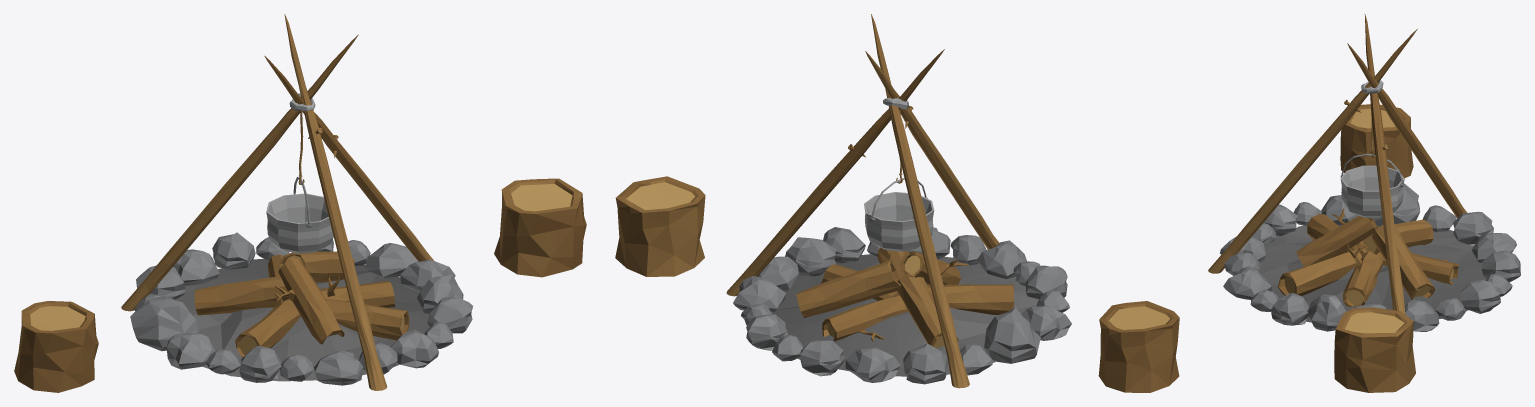
File: campfire.obj
The picture shows the model from 3 angles, left to right: view 1: azimuth 30°, elevation 25°; view 2: azimuth 150°, elevation 25°; view 3: azimuth 270°, elevation 25°; orthographic projection. The views are drawn at different scales.
Visible parts, largest first — view 1: fireplace_Material, tripod_Material, firewood_Material, log_chair_1_Material, log_chair_2_Material, pot_Material; view 2: fireplace_Material, firewood_Material, tripod_Material, log_chair_1_Material, log_chair_2_Material, pot_Material; view 3: fireplace_Material, firewood_Material, tripod_Material, log_chair_1_Material, log_chair_2_Material, pot_Material.
Boxes of the visible parts, <box> form: fireplace_Material: <box>130,232,472,385</box>; tripod_Material: <box>121,14,433,390</box>; firewood_Material: <box>194,251,409,357</box>; log_chair_1_Material: <box>494,178,586,277</box>; log_chair_2_Material: <box>14,301,98,392</box>; pot_Material: <box>266,193,333,253</box>; fireplace_Material: <box>733,227,1071,384</box>; firewood_Material: <box>796,247,1013,347</box>; tripod_Material: <box>726,14,999,388</box>; log_chair_1_Material: <box>615,176,705,276</box>; log_chair_2_Material: <box>1098,301,1179,392</box>; pot_Material: <box>864,192,934,251</box>; fireplace_Material: <box>1220,184,1520,331</box>; firewood_Material: <box>1278,208,1458,307</box>; tripod_Material: <box>1208,14,1467,314</box>; log_chair_1_Material: <box>1334,307,1415,392</box>; log_chair_2_Material: <box>1340,104,1413,178</box>; pot_Material: <box>1340,165,1404,217</box>.
Size of the model in its own units: 3.23 by 1.59 by 1.79.
